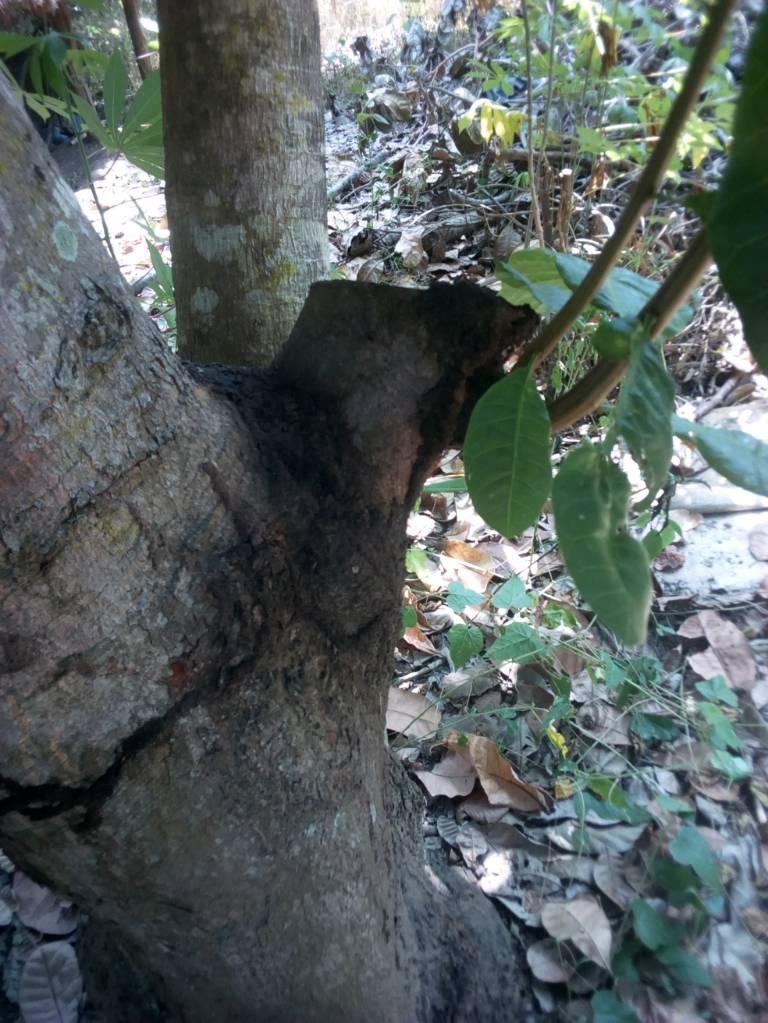Termites: (215, 372, 402, 677)
